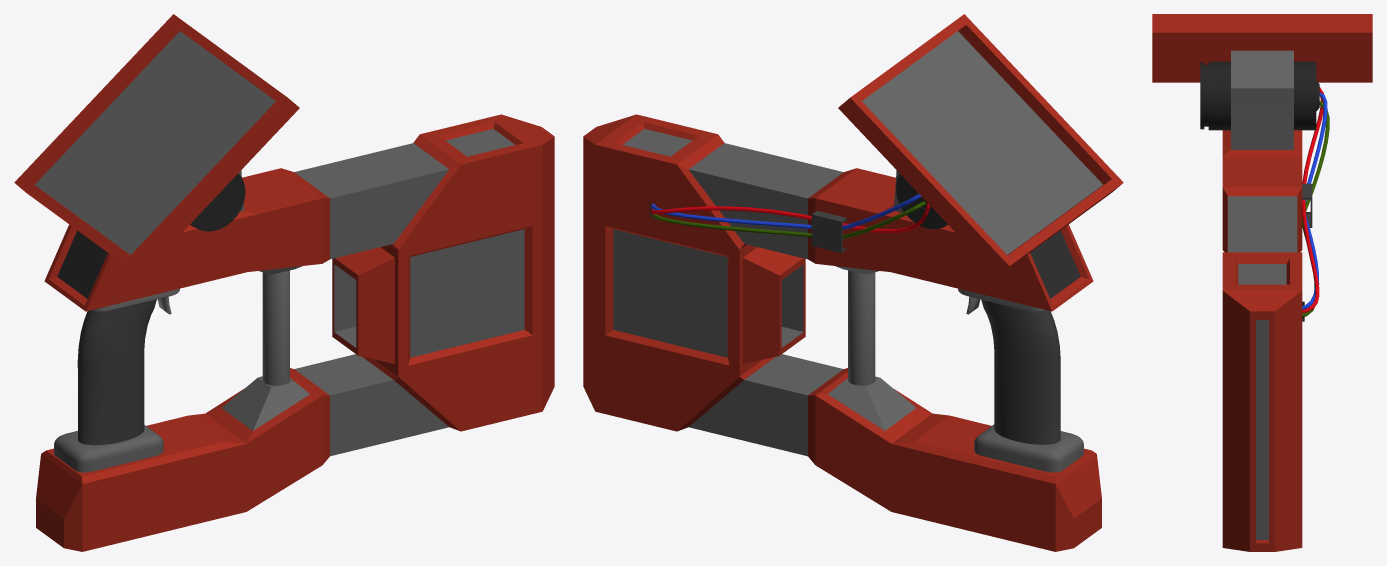
File: Sanner3Colorbatteryslot.fbx
The picture shows the model from 3 angles, left to right: view 1: azimuth 30°, elevation 25°; view 2: azimuth 150°, elevation 25°; view 3: azimuth 270°, elevation 25°; orthographic projection. The views are drawn at different scales.
Visible parts, largest first — view 1: Cube, Cylinder; view 2: Cube, Cylinder; view 3: Cube, Cylinder.
Boxes of the visible parts, left/top/right/bottom form: Cube: left=14, top=14, right=554, bottom=551; Cylinder: left=190, top=173, right=245, bottom=231; Cube: left=583, top=14, right=1123, bottom=551; Cylinder: left=896, top=174, right=947, bottom=229; Cube: left=1152, top=14, right=1372, bottom=551; Cylinder: left=1200, top=61, right=1319, bottom=130.
Bounding box in the file's own units: 543 × 458 × 216.
